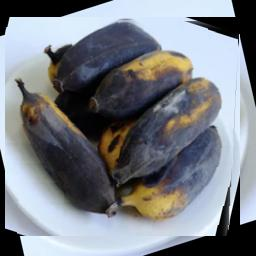Banana Rotten: (6, 17, 241, 236)
